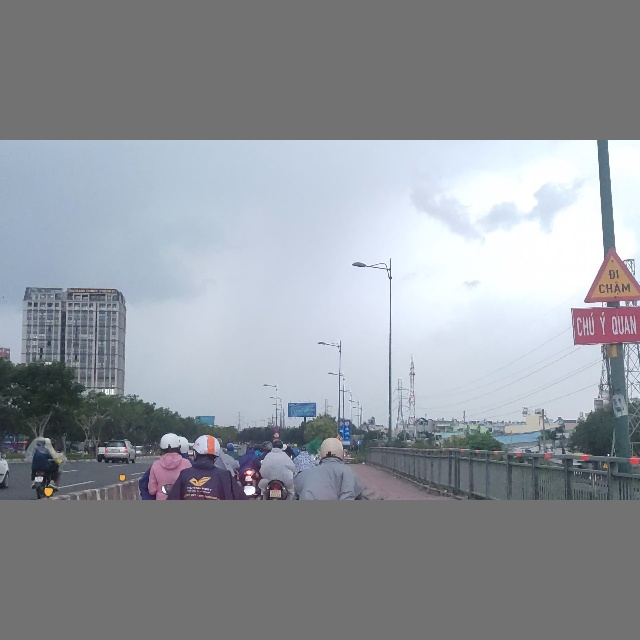W.245a: (583, 245, 640, 304)
